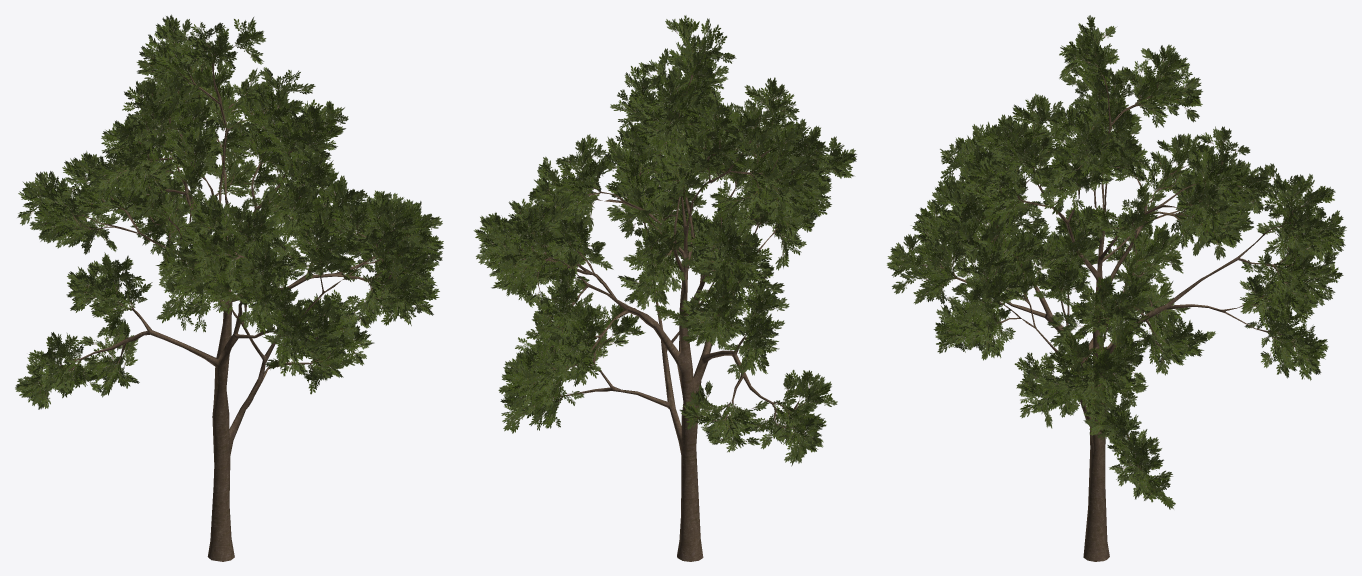
The model's file is enc_tree_fruit.glb.
3 renders of one model, left to right at view 1: azimuth 30°, elevation 25°; view 2: azimuth 150°, elevation 25°; view 3: azimuth 270°, elevation 25°, orthographic. The views are drawn at different scales.
Parts seen in each view (by area): view 1: KB3D_ENC_BldgMdBookStore_A_Tree; view 2: KB3D_ENC_BldgMdBookStore_A_Tree; view 3: KB3D_ENC_BldgMdBookStore_A_Tree.
Boxes of the visible parts, left/top/right/bottom form: KB3D_ENC_BldgMdBookStore_A_Tree: left=15, top=14, right=443, bottom=561; KB3D_ENC_BldgMdBookStore_A_Tree: left=473, top=15, right=856, bottom=561; KB3D_ENC_BldgMdBookStore_A_Tree: left=887, top=15, right=1346, bottom=561.
Bounding box in the file's own units: 6.25 × 8.42 × 6.64.
2 materials, 2 textured.
